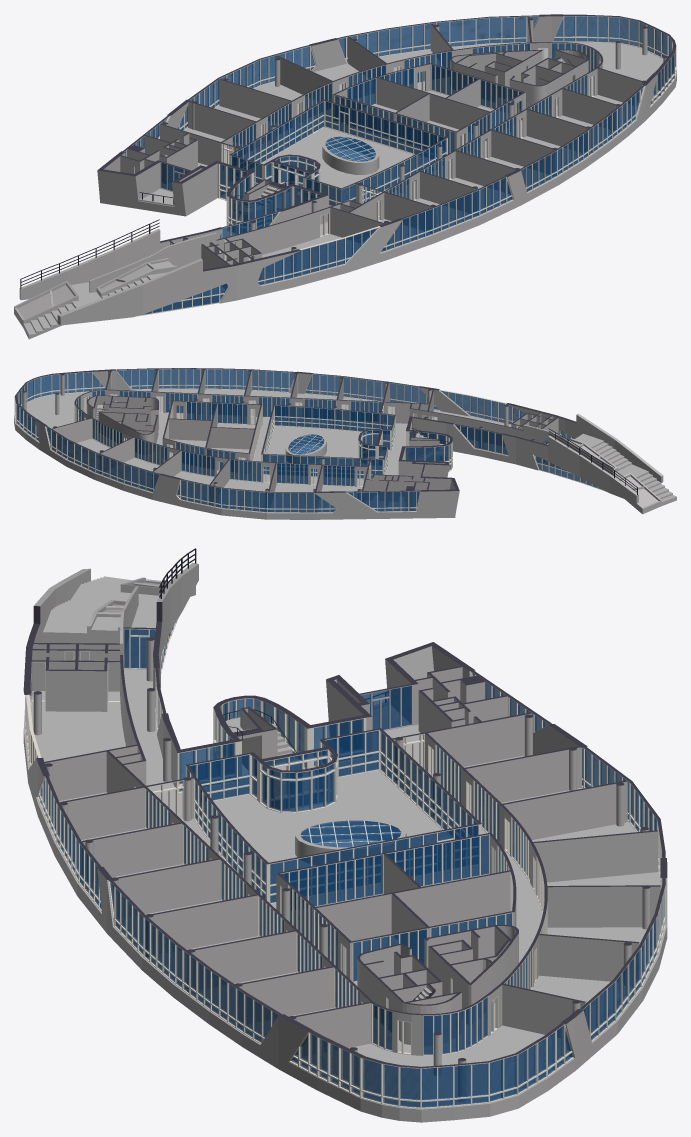
3 renders of one model, top to bottom at view 1: azimuth 30°, elevation 25°; view 2: azimuth 150°, elevation 25°; view 3: azimuth 270°, elevation 25°, orthographic. The views are drawn at different scales.
Parts seen in each view (by area): view 1: GIMC_2F; view 2: GIMC_2F; view 3: GIMC_2F.
Part boxes in pixels (<box>): GIMC_2F: <box>14,14,676,339</box>; GIMC_2F: <box>14,368,676,519</box>; GIMC_2F: <box>23,548,667,1122</box>.
Size of the model in its own units: 200 by 18.11 by 97.36.
2 materials, 2 textured.
